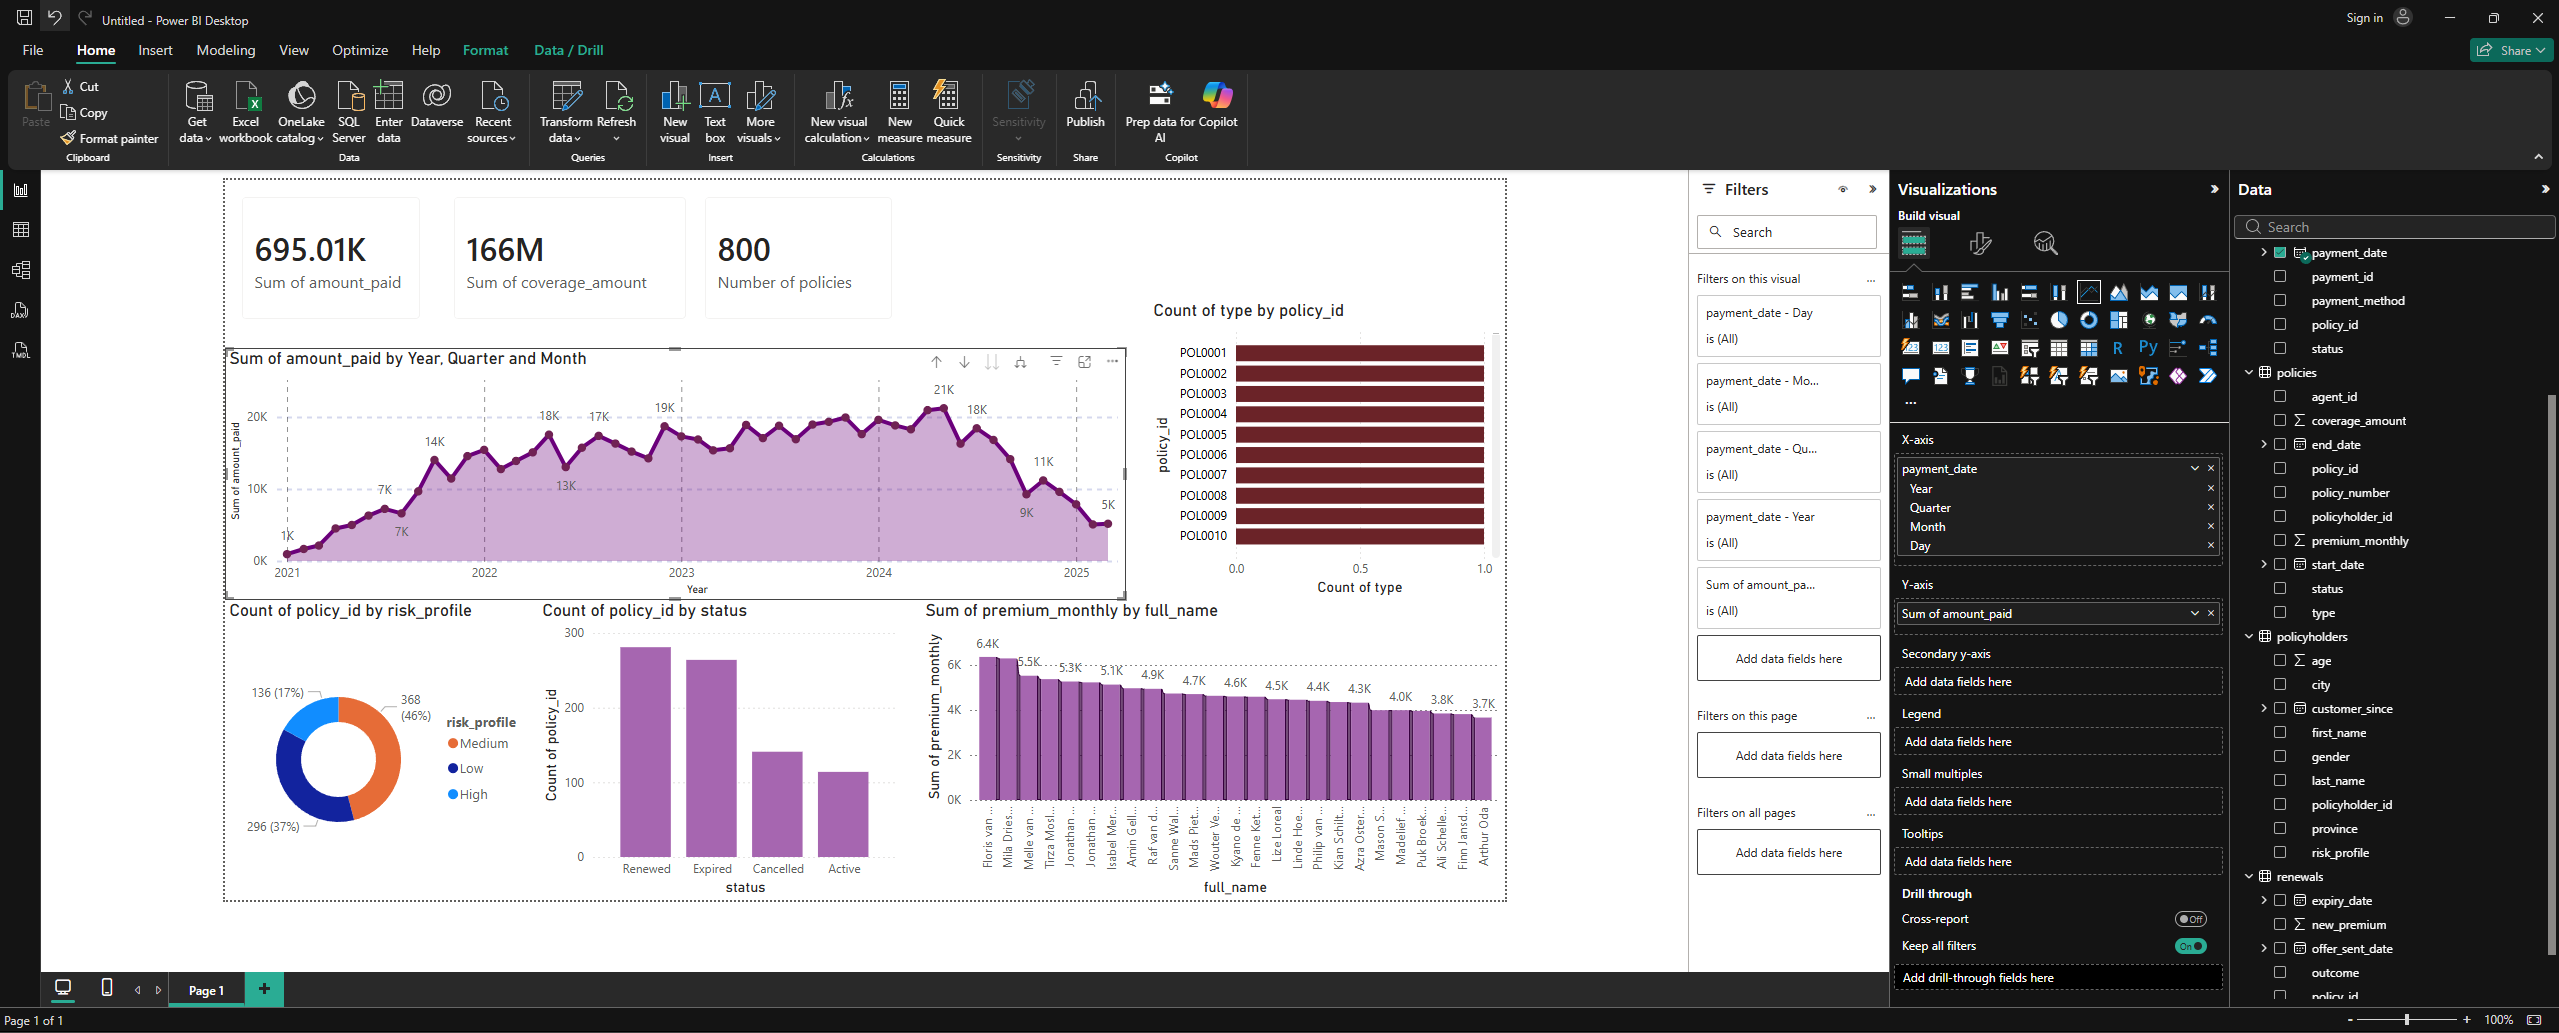

The dashboard page shown, as its layout file describes it:
{"tool":"powerbi","page":{"name":"Page 1","canvas":[1280,720],"ordinal":0},"visuals":[{"type":"cardVisual","fields":{"Data":["Sum(policies.coverage_amount)"]},"box":[212,0,266,156],"z":0},{"type":"cardVisual","fields":{"Data":["Sum(payments.amount_paid)"]},"box":[0,0,212,156],"z":1000},{"type":"cardVisual","fields":{"Data":["CountNonNull(policies.policy_id)"]},"box":[463,0,221,156],"z":2000},{"type":"barChart","fields":{"Y":["CountNonNull(policies.type)"],"Category":["policies.policy_id"]},"box":[924,120,356,300],"z":3000},{"type":"columnChart","fields":{"Category":["agents.full_name"],"Y":["Sum(policies.premium_monthly)"]},"box":[696,420,584,300],"z":4000},{"type":"clusteredColumnChart","fields":{"Category":["policies.status"],"Y":["CountNonNull(policies.policy_id)"]},"box":[313,420,364,300],"z":5000},{"type":"lineChart","fields":{"Category":["payments.payment_date.Variation.Date Hierarchy.Year","payments.payment_date.Variation.Date Hierarchy.Quarter","payments.payment_date.Variation.Date Hierarchy.Month","payments.payment_date.Variation.Date Hierarchy.Day"],"Y":["Sum(payments.amount_paid)"]},"box":[0,168,901,252],"z":6000},{"type":"donutChart","fields":{"Category":["policyholders.risk_profile"],"Y":["CountNonNull(policies.policy_id)"]},"box":[0,420,313,300],"z":7000}]}

Visuals, with their boxes on the page's 1280x720 design canvas (x1, y1, x2, y2). These are canvas units, not pixel positions in the 2559x1033 screenshot, which may show the page scaled, cropped or inside an application window:
cardVisual - Sum(policies.coverage_amount): 212 0 478 156
cardVisual - Sum(payments.amount_paid): 0 0 212 156
cardVisual - CountNonNull(policies.policy_id): 463 0 684 156
barChart - CountNonNull(policies.type) x policies.policy_id: 924 120 1280 420
columnChart - agents.full_name x Sum(policies.premium_monthly): 696 420 1280 720
clusteredColumnChart - policies.status x CountNonNull(policies.policy_id): 313 420 677 720
lineChart - payments.payment_date.Variation.Date Hierarchy.Year x payments.payment_date.Variation.Date Hierarchy.Quarter: 0 168 901 420
donutChart - policyholders.risk_profile x CountNonNull(policies.policy_id): 0 420 313 720
